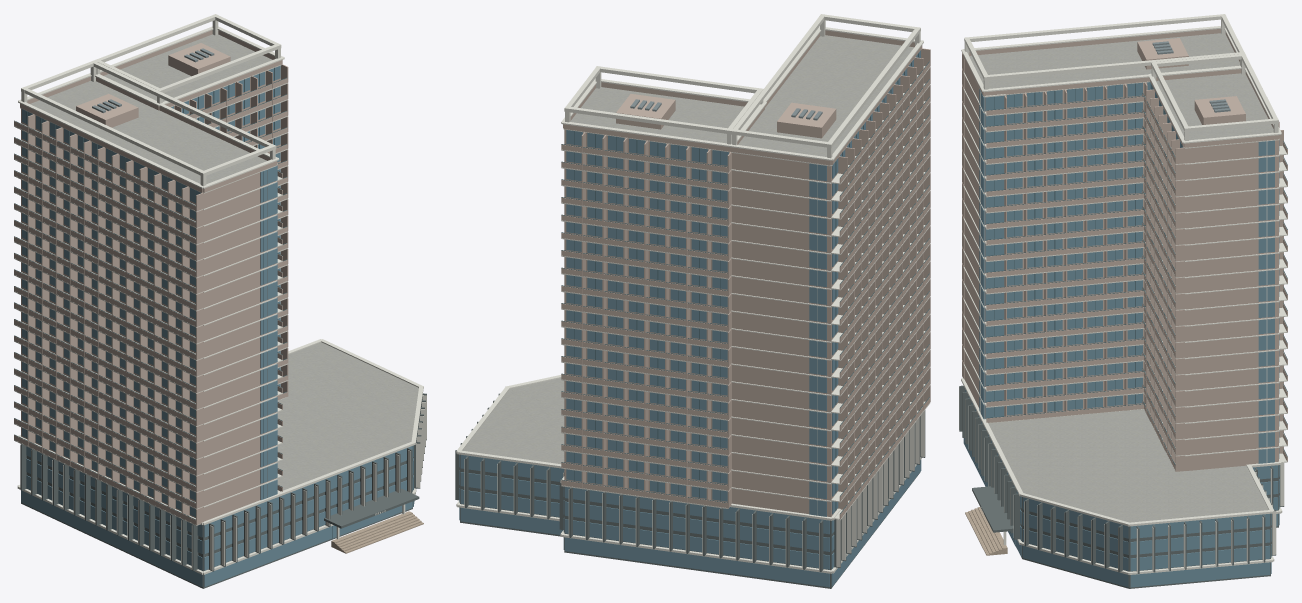
The model's file is international-residence.glb.
The picture shows the model from 3 angles, left to right: view 1: azimuth 30°, elevation 25°; view 2: azimuth 150°, elevation 25°; view 3: azimuth 270°, elevation 25°; orthographic projection. The views are drawn at different scales.
Visible parts, largest first — view 1: landmark-international-residence; view 2: landmark-international-residence; view 3: landmark-international-residence.
Part boxes in pixels (bbox=[...]): landmark-international-residence: bbox=[14, 14, 426, 588]; landmark-international-residence: bbox=[455, 14, 930, 588]; landmark-international-residence: bbox=[959, 14, 1287, 588].
Size of the model in its own units: 75.94 by 82.98 by 60.75.
8 materials, 2 textured.
